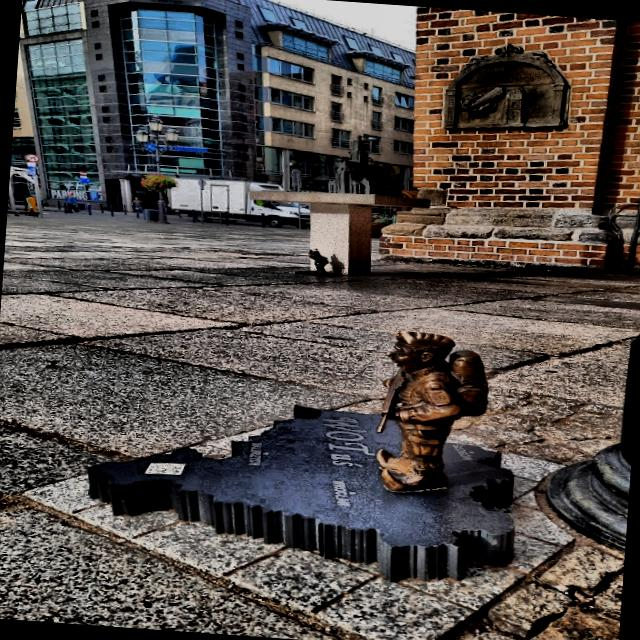WOTus: (375, 332, 487, 491)
